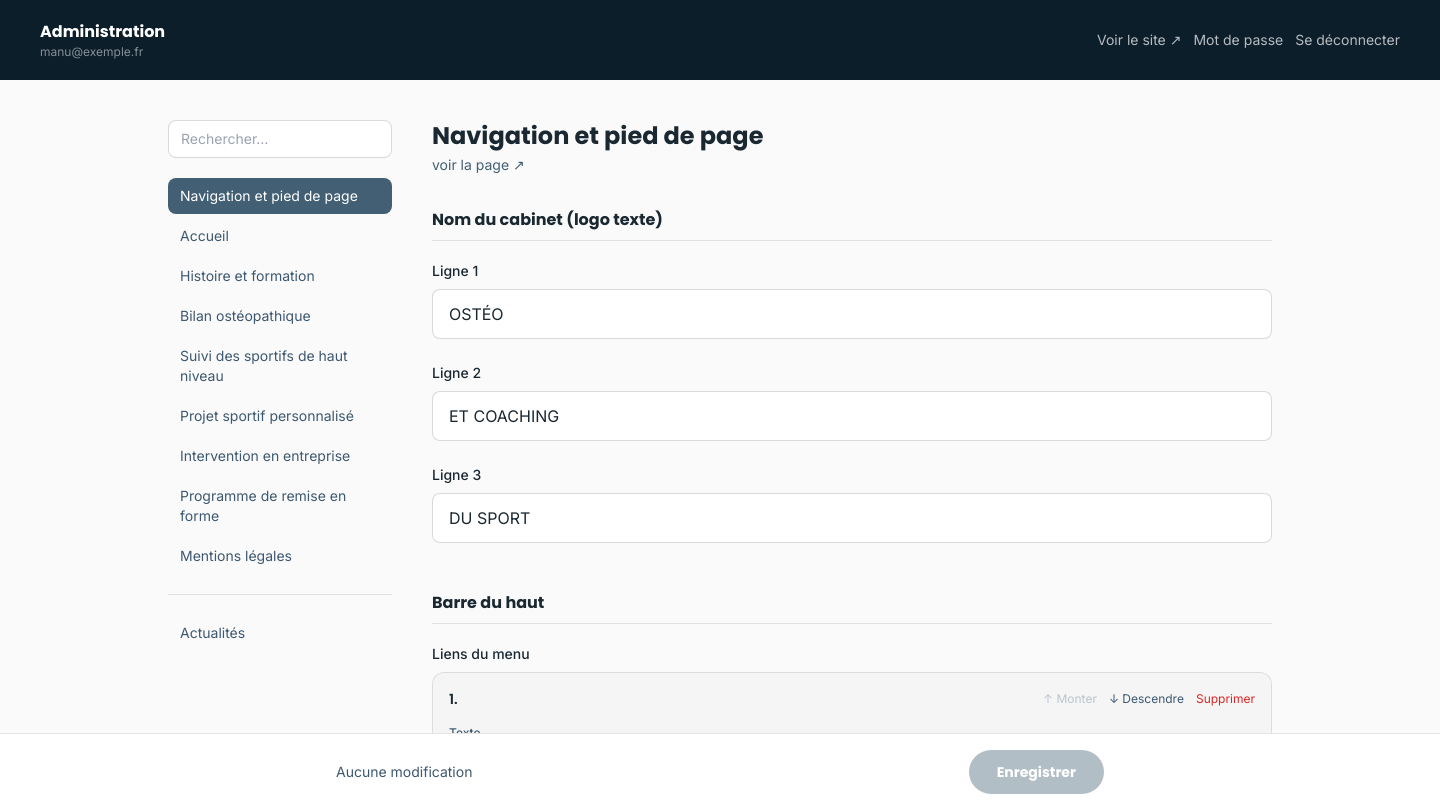
it: connecté, le changement direct n’échange aucun jeton
The width and height of the screenshot is (1440, 810).
Click the button "Mot de passe" at (1238, 40), box [1194, 30, 1283, 50]
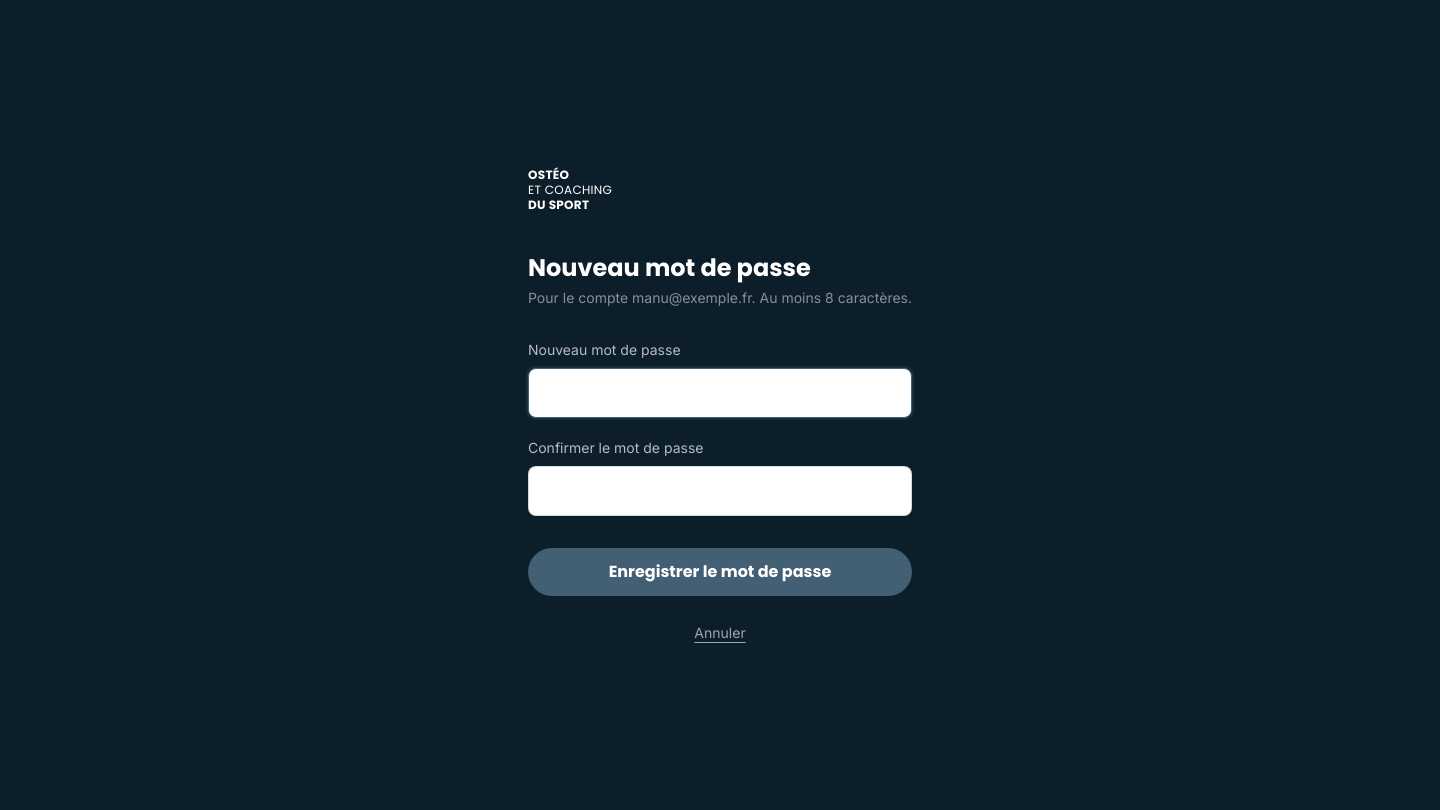
Type "un-bon-mot-de-passe" into the password field labelled "Nouveau mot de passe" at (720, 392), box [528, 368, 912, 418]
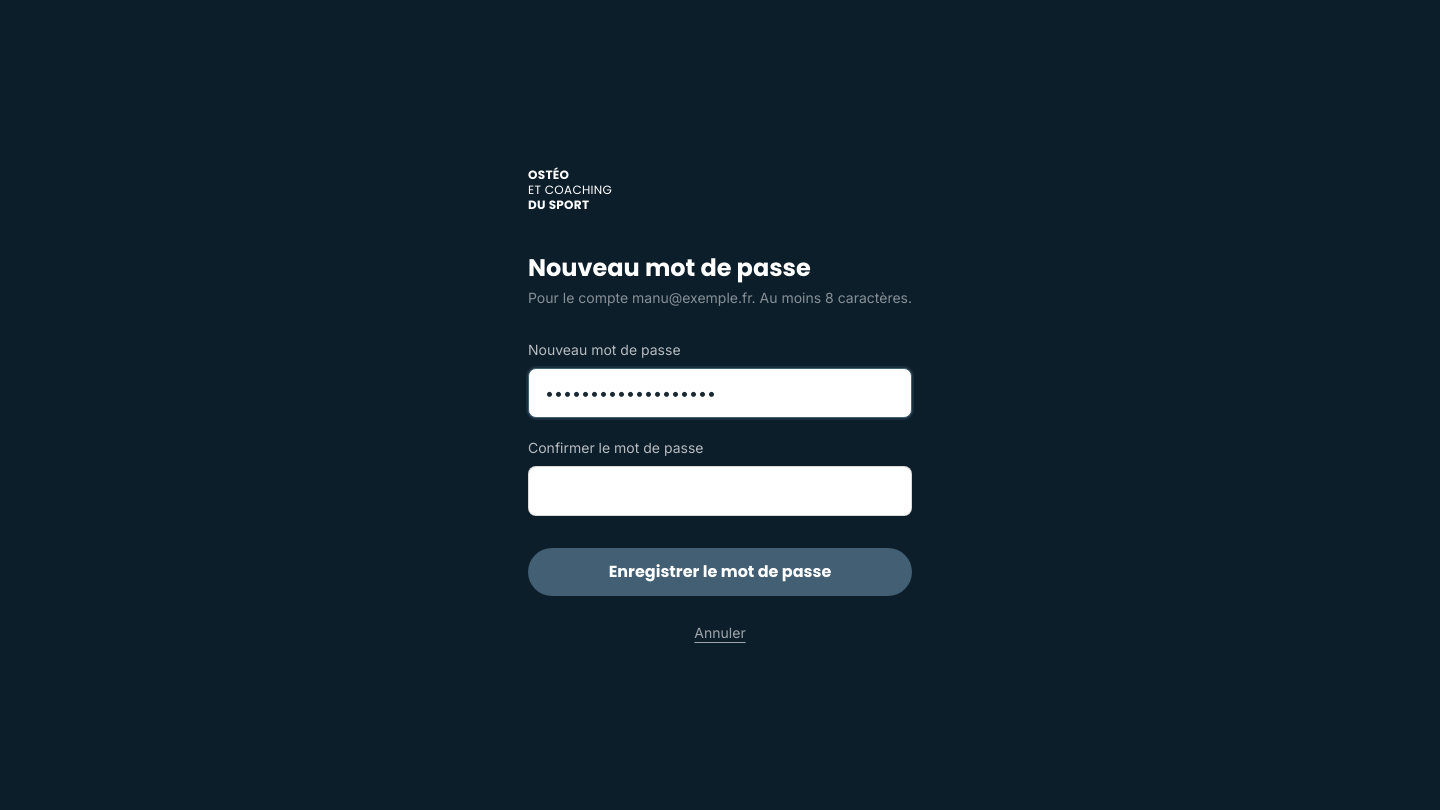
Type "un-bon-mot-de-passe" into the password field labelled "Confirmer le mot de passe" at (720, 490), box [528, 466, 912, 516]
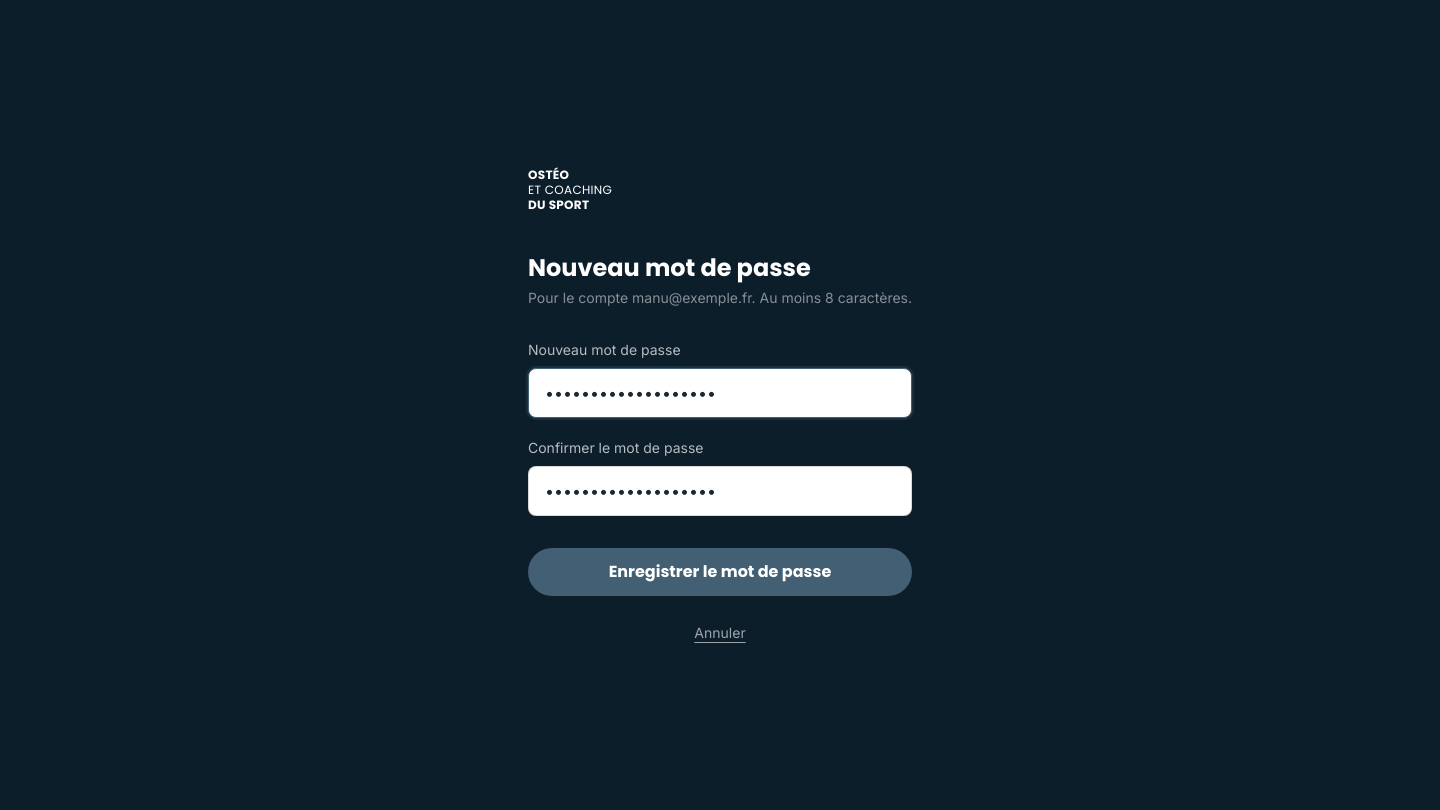
Click the button "Enregistrer le mot de passe" at (720, 572), box [528, 548, 912, 596]
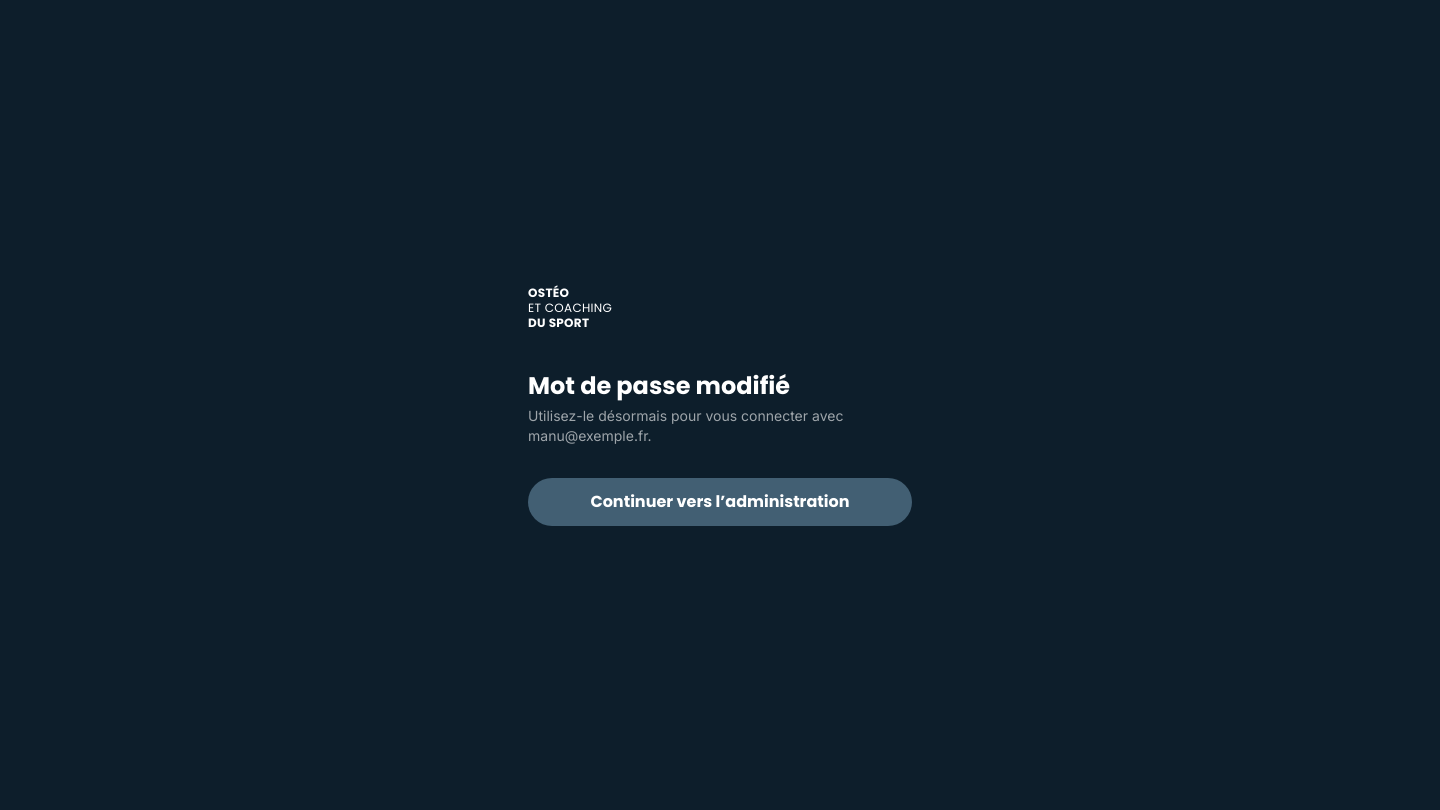
Check: the message "Utilisez-le désormais pour vous connecter avec manu@exemple.fr." is shown, box [528, 406, 843, 444]
